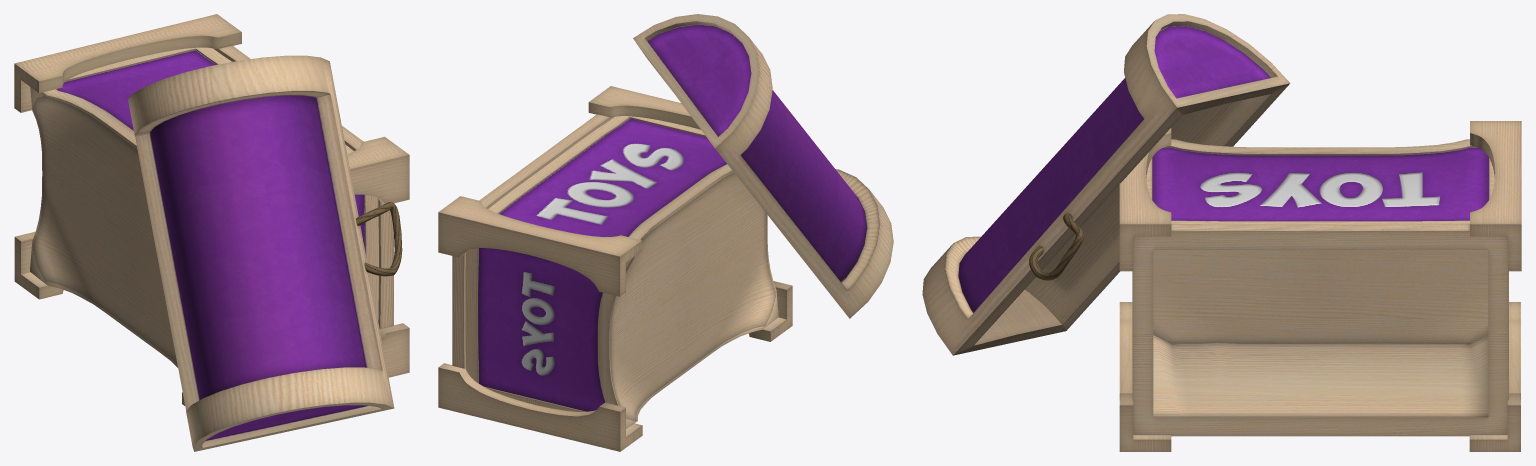
Rendered from finish_Model-1.fbx.
3 renders of one model, left to right at view 1: azimuth 30°, elevation 25°; view 2: azimuth 150°, elevation 25°; view 3: azimuth 270°, elevation 25°, orthographic. The views are drawn at different scales.
Visible parts, largest first — view 1: Object_2, Object; view 2: Object, Object_2; view 3: Object, Object_2.
Boxes of the visible parts, x1,y1,x2,y2 form: Object_2: [128, 55, 402, 451]; Object: [14, 14, 409, 405]; Object: [438, 86, 792, 451]; Object_2: [633, 14, 893, 318]; Object: [1119, 121, 1521, 451]; Object_2: [922, 14, 1290, 355].
Size of the model in its own units: 1260 by 1592 by 2437.
Materials: 1 (1 with a texture image).
